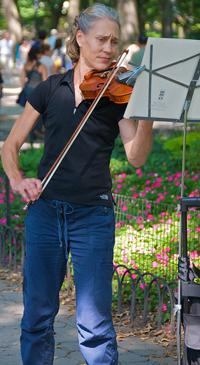person: (1, 4, 155, 365)
